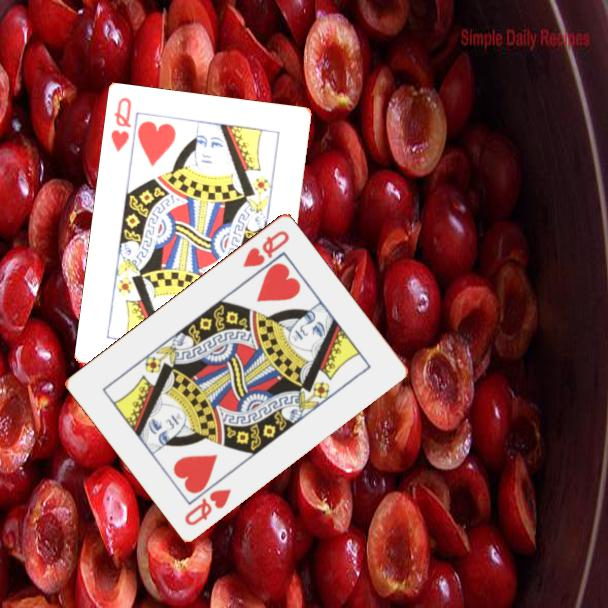h12: (239, 226, 292, 270), (181, 485, 234, 528), (108, 94, 135, 155)
